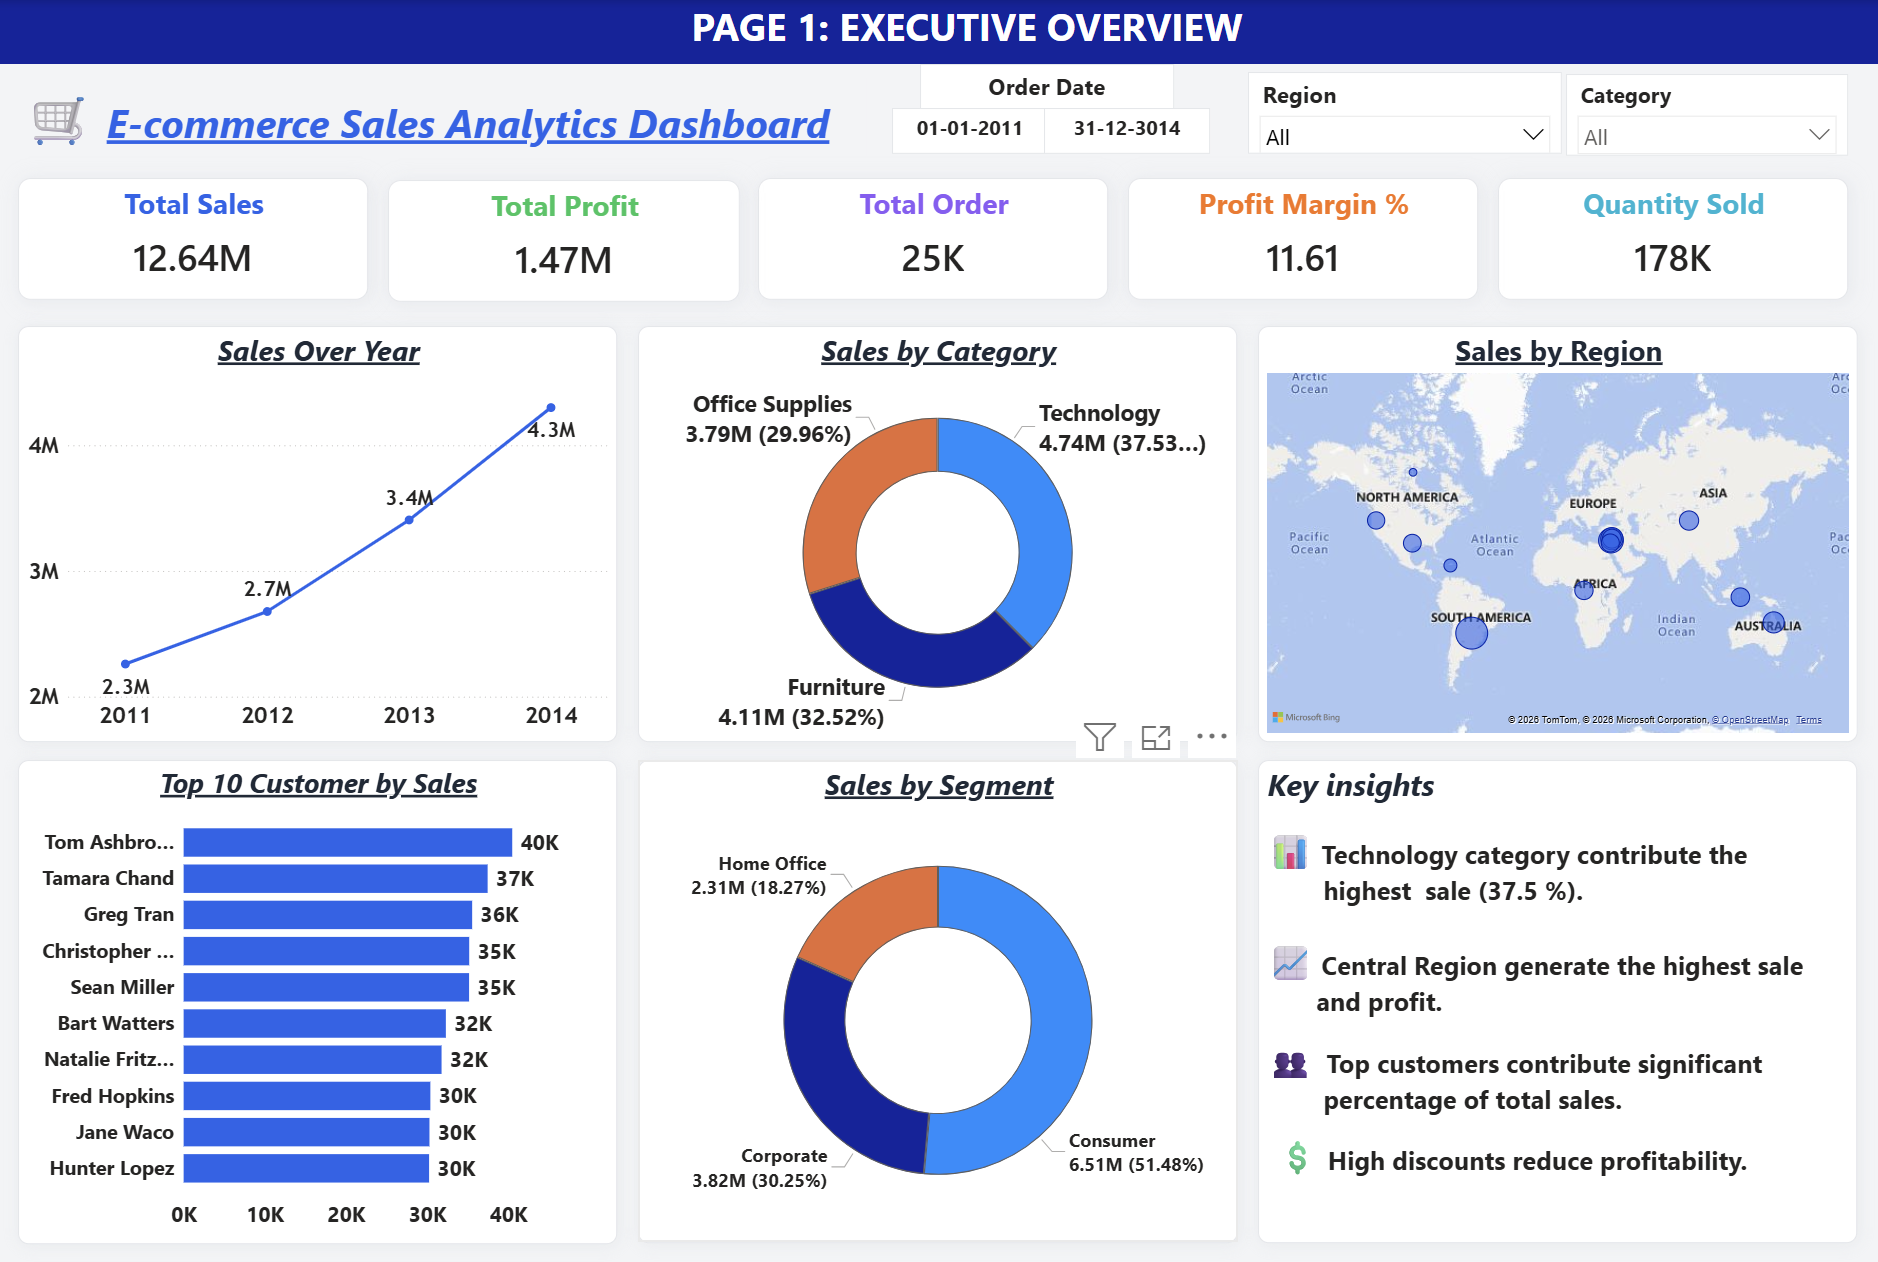

The dashboard page shown, as its layout file describes it:
{"tool":"powerbi","page":{"name":"OVERVIEW","canvas":[1784,1200],"ordinal":0},"visuals":[{"type":"textbox","title":"PAGE 1: EXECUTIVE OVERVIEW","box":[0,0,1840.8,60.7],"z":0},{"type":"slicer","fields":{"Values":["Ecommerce_sales.Region"]},"box":[1186.7,68.2,297.6,77.7],"z":1000},{"type":"slicer","fields":{"Values":["Ecommerce_sales.Category"]},"box":[1488.2,70.1,267.3,77.7],"z":2000},{"type":"textbox","box":[875.8,60.7,240.8,47.4],"z":3000},{"type":"textbox","box":[849.3,102.4,147.9,43.6],"z":4000},{"type":"textbox","box":[993.4,102.4,157.3,43.6],"z":5000},{"type":"cardVisual","title":"Total Sales","fields":{"Data":["Measure Table 1.Total Sales"]},"box":[20,168.7,331.8,115.6],"z":6000},{"type":"cardVisual","title":"Quantity Sold","fields":{"Data":["Measure Table 1.Quantity Sold"]},"box":[1424,168.7,331.8,115.6],"z":7000},{"type":"cardVisual","title":"Total Order","fields":{"Data":["Measure Table 1.Total Order"]},"box":[722,168.7,331.8,115.6],"z":8000},{"type":"cardVisual","title":"Profit Margin %","fields":{"Data":["Measure Table 1.Profit Margin"]},"box":[1073,168.7,331.8,115.6],"z":9000},{"type":"cardVisual","title":"Total Profit","fields":{"Data":["Measure Table 1.Total Profit"]},"box":[371,170.6,333.6,115.6],"z":10000},{"type":"lineChart","title":"Sales Over Year","fields":{"Category":["Ecommerce_sales.Order Date.Variation.Date Hierarchy.Year","Ecommerce_sales.Order Date.Variation.Date Hierarchy.Month","Ecommerce_sales.Order Date.Variation.Date Hierarchy.Day"],"Y":["Sum(Ecommerce_sales.Sales)"]},"box":[20,309,568,394.3],"z":11000},{"type":"donutChart","title":" Sales by Category","fields":{"Y":["Sum(Ecommerce_sales.Sales)"],"Category":["Ecommerce_sales.Category"]},"box":[608,309,568,394.3],"z":12000},{"type":"map","title":"Sales by Region","fields":{"Category":["Ecommerce_sales.Region"],"Size":["Measure Table 1.Total Sales"]},"box":[1196,309,568.7,394.3],"z":13000},{"type":"barChart","title":"Top 10 Customer by Sales","fields":{"Category":["Ecommerce_sales.Customer Name"],"Y":["Sum(Ecommerce_sales.Sales)"]},"box":[20.9,720.4,568,458.8],"z":14000},{"type":"donutChart","title":" Sales by Segment","fields":{"Y":["Sum(Ecommerce_sales.Sales)"],"Category":["Ecommerce_sales.Segment"]},"box":[608,720,568.7,458],"z":15000},{"type":"textbox","title":"Key insights","box":[1196,720,568,458],"z":16000},{"type":"textbox","box":[20.9,73.9,803.8,73.9],"z":17000}]}

Visuals, with their boxes in screenshot pixels (x1, y1, x2, y2), scaled from the page's 1784x1200 canvas onto the 1878x1262 screenshot:
"PAGE 1: EXECUTIVE OVERVIEW" textbox: crop(0, 0, 1877, 64)
slicer - Ecommerce_sales.Region: crop(1249, 72, 1563, 153)
slicer - Ecommerce_sales.Category: crop(1567, 74, 1848, 155)
textbox: crop(922, 64, 1175, 114)
textbox: crop(894, 108, 1050, 154)
textbox: crop(1046, 108, 1211, 154)
"Total Sales" cardVisual: crop(21, 177, 370, 299)
"Quantity Sold" cardVisual: crop(1499, 177, 1848, 299)
"Total Order" cardVisual: crop(760, 177, 1109, 299)
"Profit Margin %" cardVisual: crop(1130, 177, 1479, 299)
"Total Profit" cardVisual: crop(391, 179, 742, 301)
"Sales Over Year" lineChart: crop(21, 325, 619, 740)
" Sales by Category" donutChart: crop(640, 325, 1238, 740)
"Sales by Region" map: crop(1259, 325, 1858, 740)
"Top 10 Customer by Sales" barChart: crop(22, 758, 620, 1240)
" Sales by Segment" donutChart: crop(640, 757, 1239, 1239)
"Key insights" textbox: crop(1259, 757, 1857, 1239)
textbox: crop(22, 78, 868, 155)
